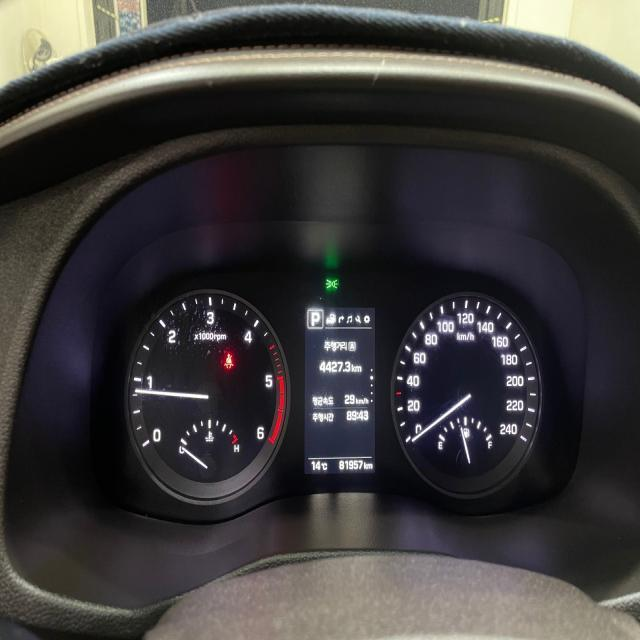SideLamp: (324, 278, 338, 290)
